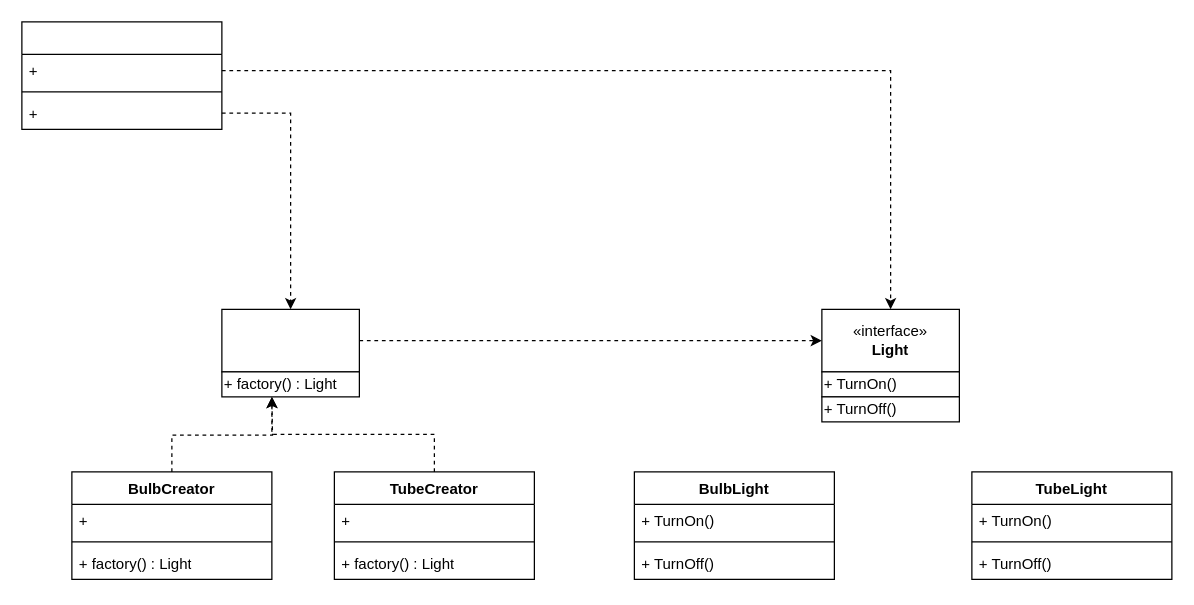
Some shapes in this 1194 by 605 pixel diagram are drawn without their labels. Each missing label, with the box of its shape:
Client: (21, 21, 222, 129)
«interface» Creator: (221, 308, 359, 372)
